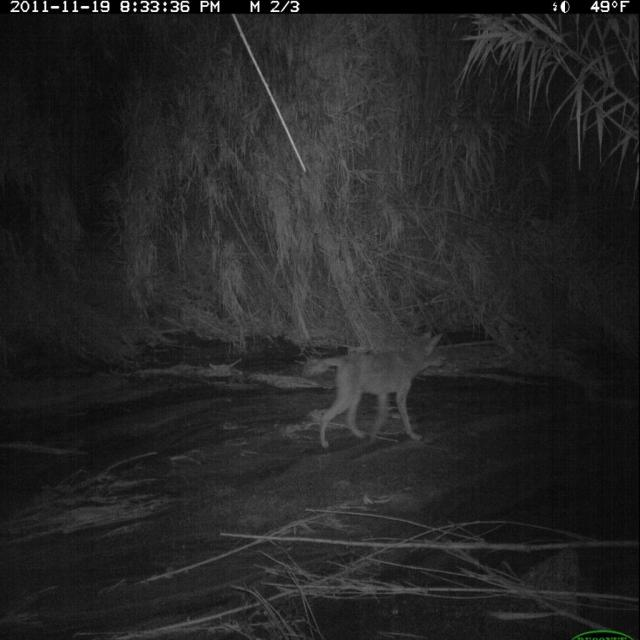coyote: (297, 324, 451, 456)
